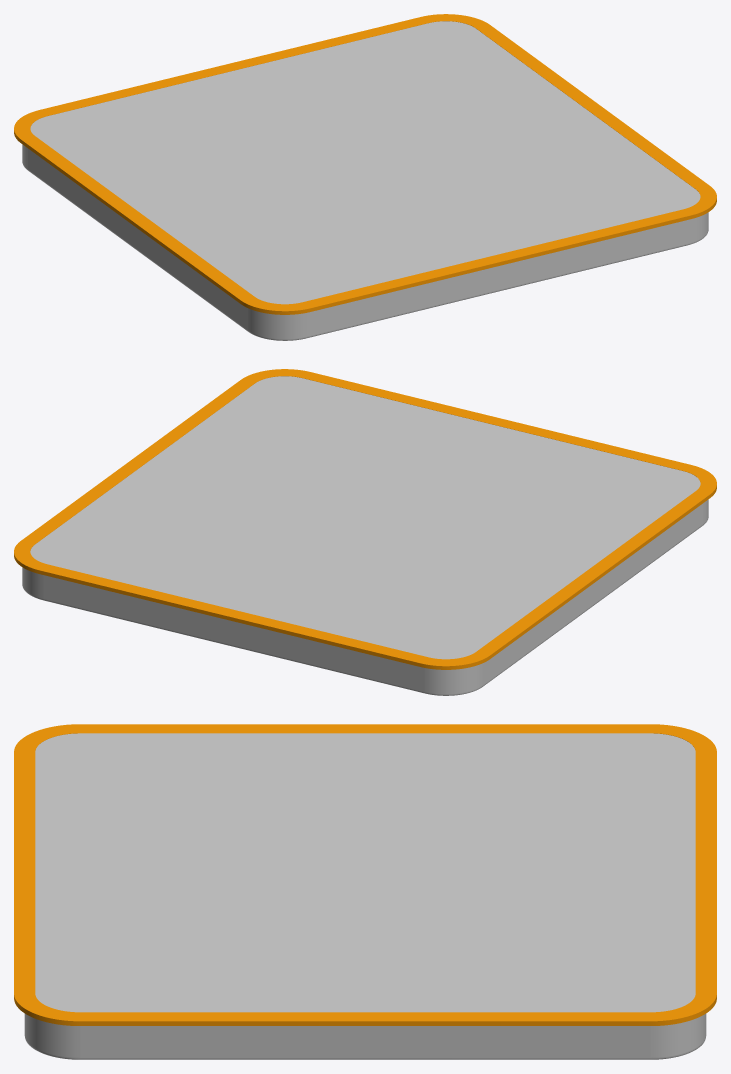
Rendered from Knopka.fbx.
3 renders of one model, top to bottom at view 1: azimuth 30°, elevation 25°; view 2: azimuth 150°, elevation 25°; view 3: azimuth 270°, elevation 25°, orthographic. The views are drawn at different scales.
Parts seen in each view (by area): view 1: main_3, Sweep; view 2: main_3, Sweep; view 3: main_3, Sweep.
Boxes of the visible parts, <box> form: main_3: <box>22,21,708,340</box>; Sweep: <box>14,14,716,314</box>; main_3: <box>22,376,708,695</box>; Sweep: <box>14,369,716,669</box>; main_3: <box>24,733,706,1059</box>; Sweep: <box>14,724,716,1025</box>.
Bounding box in the file's own units: 660 × 44.77 × 660.
